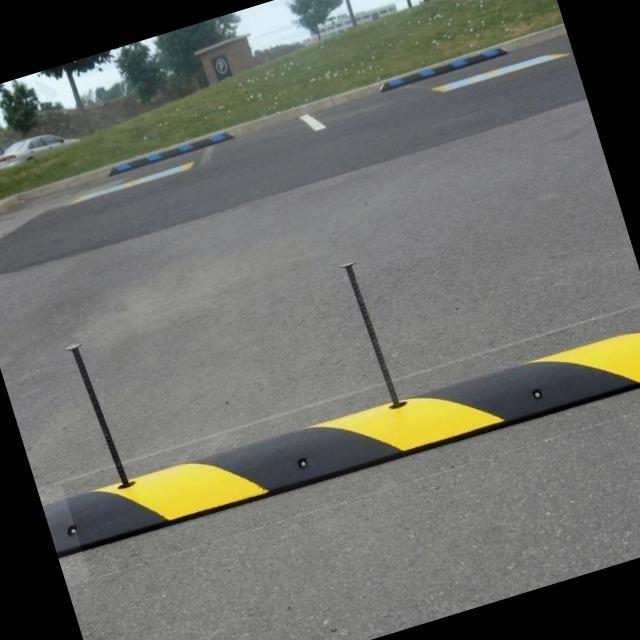speedbreaker: (61, 303, 640, 578)
